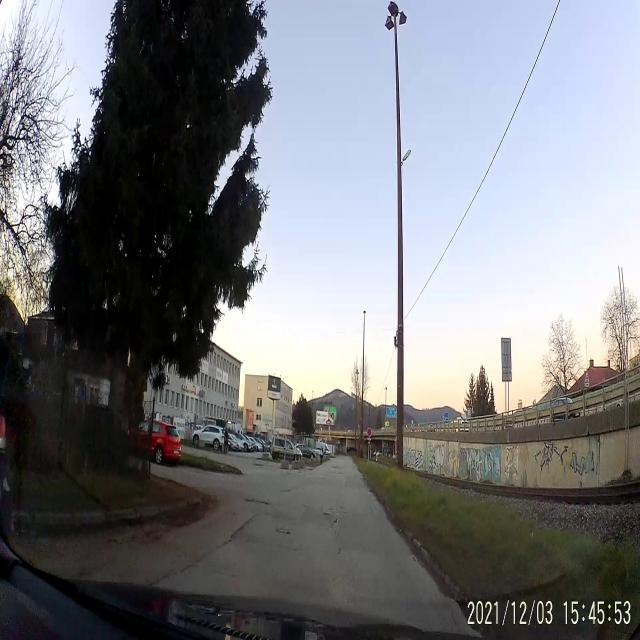Pothole: (240, 493, 272, 507), (274, 520, 292, 540)
